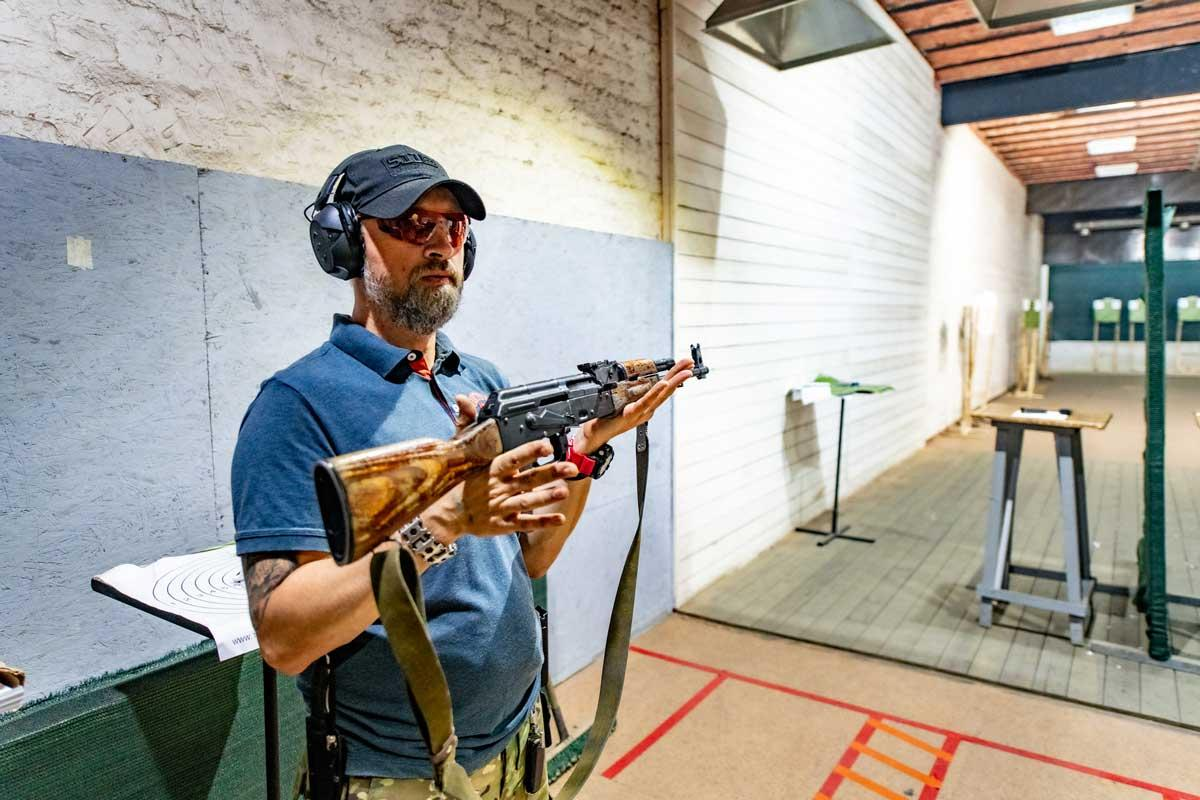larga: (311, 341, 712, 568)
